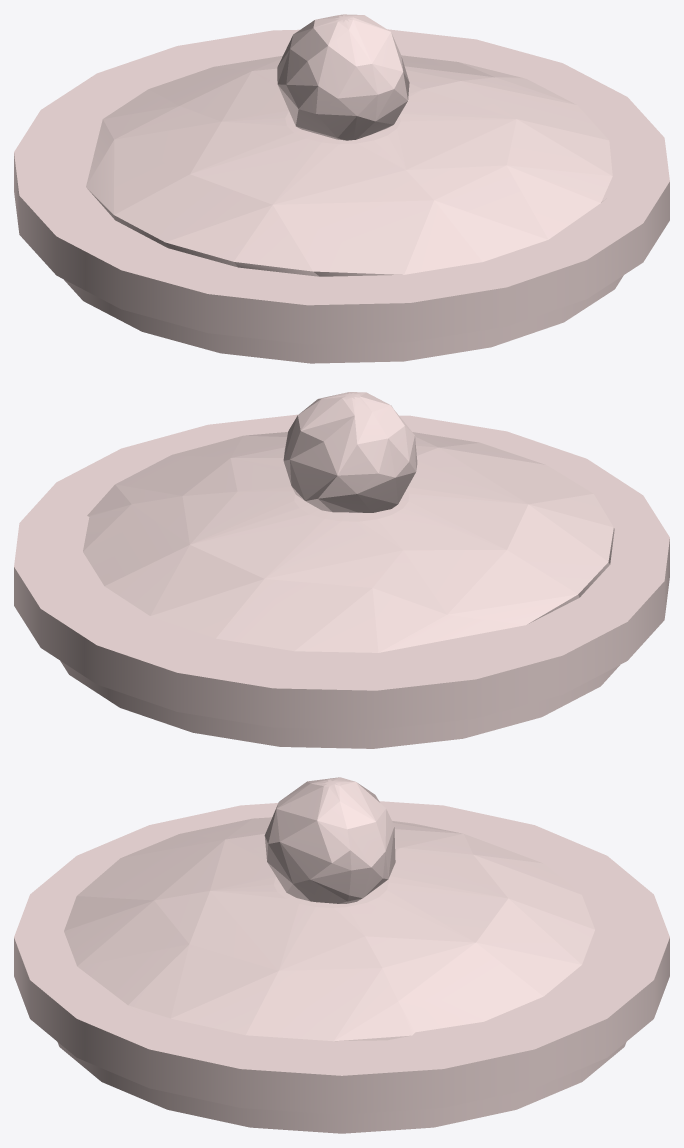
The model's file is TapaF.obj.
The picture shows the model from 3 angles, top to bottom: view 1: azimuth 30°, elevation 25°; view 2: azimuth 150°, elevation 25°; view 3: azimuth 270°, elevation 25°; orthographic projection.
Parts seen in each view (by area): view 1: CajaR:TapaDos:polySurface41; view 2: CajaR:TapaDos:polySurface41; view 3: CajaR:TapaDos:polySurface41.
Part boxes in pixels (bbox=[...]): CajaR:TapaDos:polySurface41: bbox=[14, 14, 669, 363]; CajaR:TapaDos:polySurface41: bbox=[14, 392, 669, 748]; CajaR:TapaDos:polySurface41: bbox=[14, 777, 669, 1133].
Bounding box in the file's own units: 0.2586 × 0.0972 × 0.2586.
Materials: 2 (2 with a texture image).
